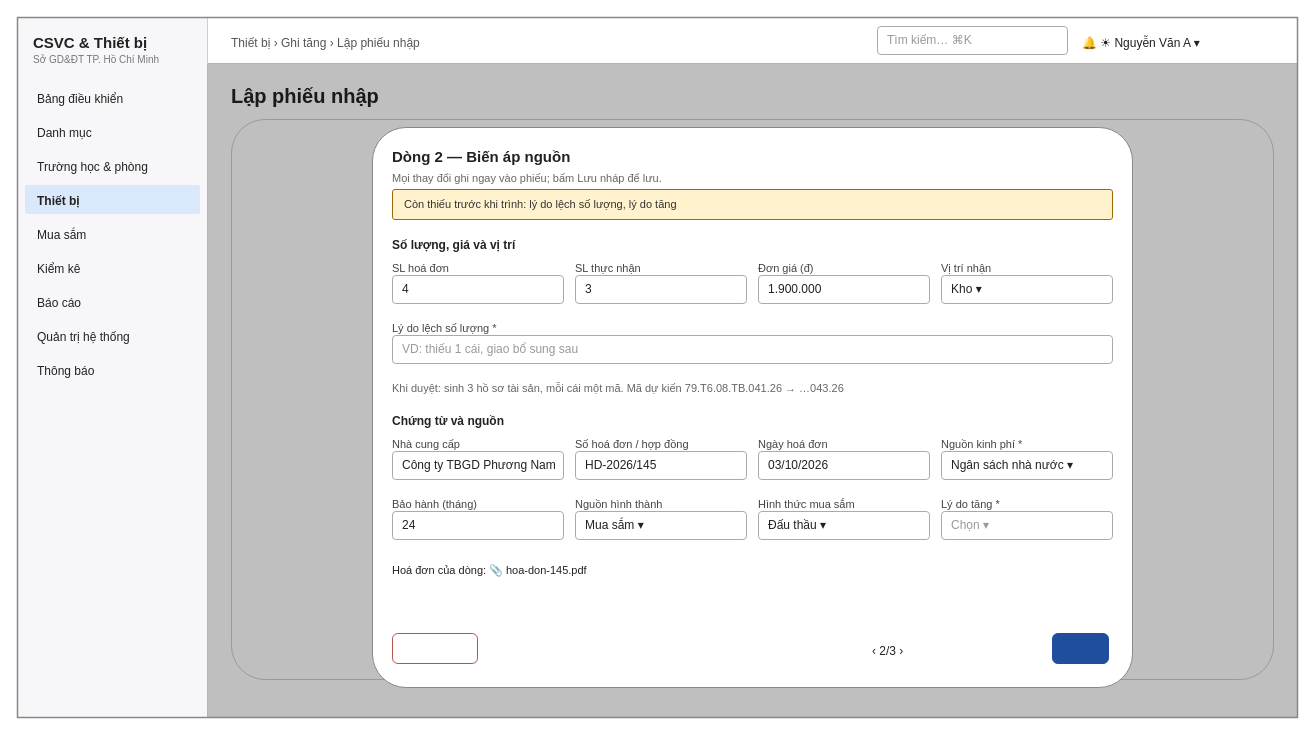
Some shapes in this 1316 by 736 pixel diagram are drawn without their labels. The centre of each missing label's shape, as x and y in pixels:
"Xong" goes at point (1080, 648).
"Xoá dòng" goes at point (435, 648).
